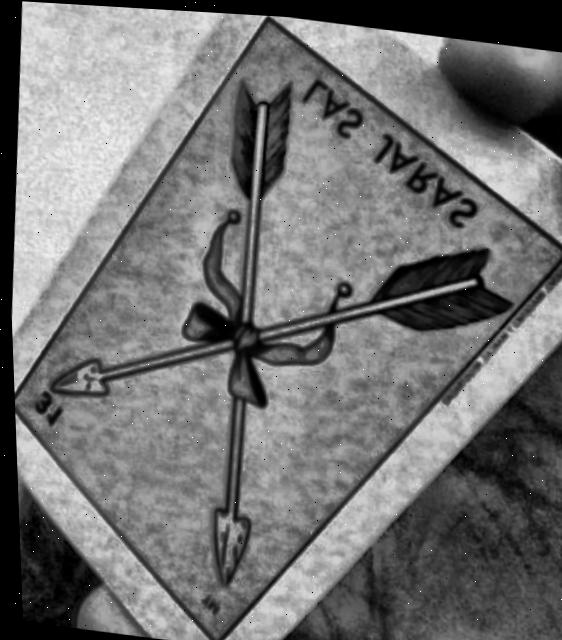Las Jaras: (11, 12, 562, 634)
